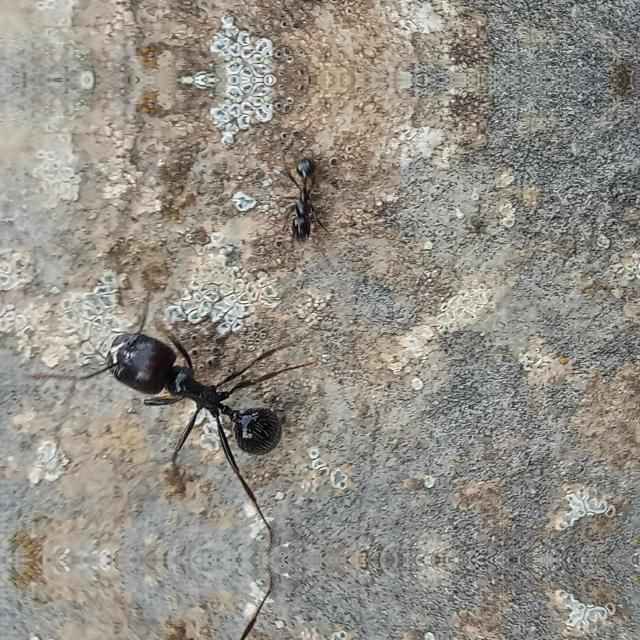Messor: (64, 297, 306, 479), (276, 147, 342, 250)
